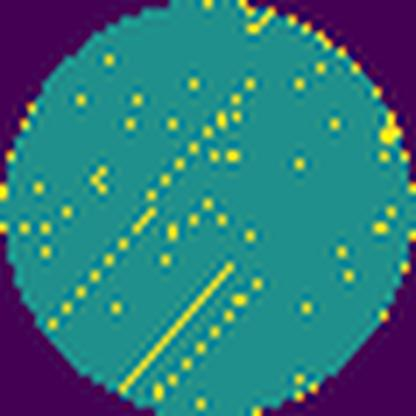Scratch: (50, 74, 260, 331), (120, 252, 247, 392)
